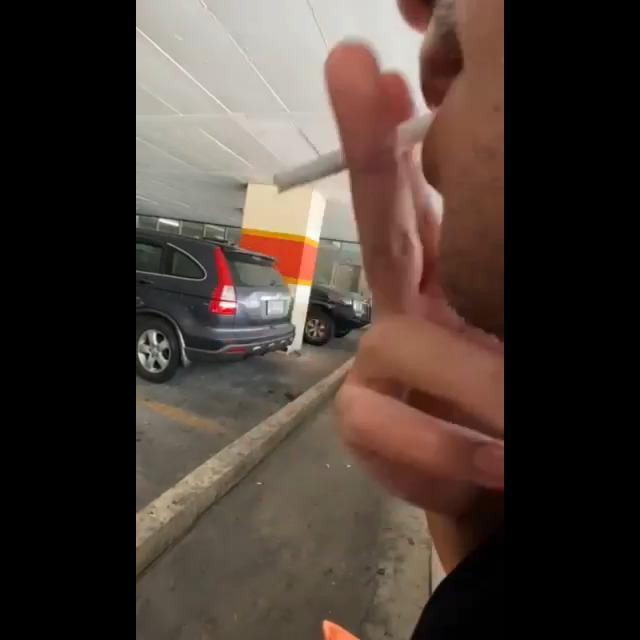rokok: (246, 121, 430, 202)
